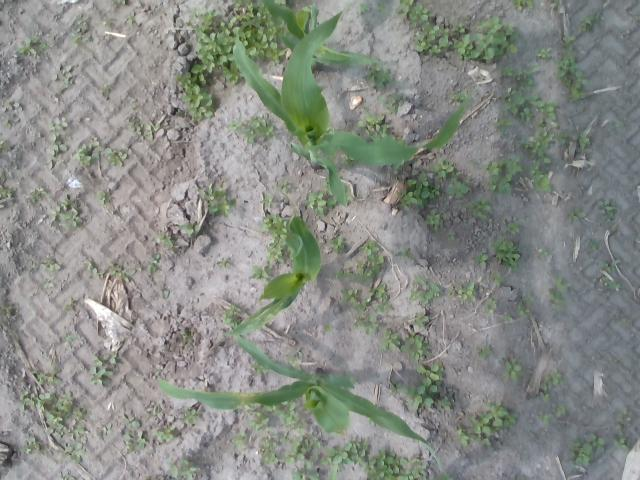Maize: (232, 10, 469, 206), (157, 334, 447, 474), (225, 210, 322, 338), (256, 0, 378, 68)
Weeds: (186, 0, 300, 84), (452, 15, 520, 63), (468, 401, 518, 445), (173, 70, 216, 121), (320, 437, 370, 478), (408, 4, 449, 54), (364, 448, 428, 480), (404, 361, 444, 410), (260, 214, 295, 264), (556, 50, 590, 100), (397, 170, 439, 210), (483, 155, 522, 195), (356, 114, 408, 144), (224, 114, 275, 144), (284, 428, 319, 465), (568, 433, 605, 468), (356, 240, 386, 282), (197, 186, 236, 218), (274, 398, 306, 434), (522, 156, 554, 192), (46, 116, 68, 168), (49, 196, 83, 228), (492, 234, 520, 272), (502, 88, 533, 122), (496, 63, 538, 88), (406, 276, 441, 305), (243, 400, 274, 431), (400, 332, 431, 362), (88, 354, 118, 384), (522, 129, 554, 157), (124, 115, 160, 139), (610, 407, 630, 450), (18, 390, 57, 412), (530, 92, 560, 120), (163, 458, 200, 480), (72, 140, 101, 166), (368, 282, 392, 313), (364, 65, 394, 89), (444, 171, 470, 198), (16, 36, 49, 57), (259, 433, 279, 466), (31, 366, 64, 386), (122, 430, 149, 454), (376, 91, 404, 114), (499, 357, 524, 382), (43, 412, 67, 438), (351, 314, 379, 336), (290, 460, 320, 480), (106, 263, 136, 283), (465, 198, 490, 220), (598, 198, 619, 224), (425, 208, 448, 231), (220, 305, 242, 329), (306, 190, 326, 216), (448, 283, 475, 302), (72, 14, 88, 46), (540, 368, 563, 390), (378, 329, 402, 350), (104, 146, 128, 167), (151, 424, 176, 444), (578, 12, 602, 32), (430, 158, 452, 179), (57, 391, 74, 418), (517, 292, 534, 318), (571, 130, 592, 151), (54, 64, 74, 86), (548, 287, 566, 311), (84, 260, 105, 280), (19, 436, 42, 454), (65, 443, 85, 463), (285, 346, 304, 367), (250, 264, 274, 280), (551, 272, 569, 292), (327, 234, 346, 252), (181, 407, 199, 426), (231, 430, 248, 450), (495, 117, 515, 134), (153, 232, 174, 248), (568, 206, 588, 222), (395, 0, 415, 16), (39, 258, 61, 272), (352, 296, 370, 312), (453, 428, 469, 446), (259, 192, 277, 208), (510, 0, 536, 11), (250, 360, 270, 374), (340, 287, 357, 303), (412, 312, 429, 328), (488, 270, 505, 286), (29, 186, 46, 202), (601, 276, 620, 290), (180, 222, 200, 235), (482, 298, 498, 314), (122, 414, 140, 428), (389, 380, 404, 396), (474, 250, 489, 266), (150, 254, 162, 274), (95, 423, 112, 437), (560, 34, 577, 48), (322, 175, 333, 196), (476, 344, 492, 358), (537, 410, 551, 426), (536, 46, 552, 60), (504, 221, 521, 234), (336, 270, 356, 281), (396, 248, 414, 260), (276, 180, 294, 192), (72, 407, 86, 422), (554, 130, 568, 145), (0, 185, 15, 198), (96, 190, 108, 206), (451, 92, 470, 102), (340, 371, 357, 382), (601, 260, 618, 271), (62, 332, 77, 344), (430, 472, 452, 480), (216, 258, 232, 269), (72, 428, 86, 440), (324, 196, 338, 208), (440, 394, 450, 410), (555, 404, 566, 418), (0, 138, 11, 152), (0, 115, 11, 128), (182, 328, 191, 343), (278, 432, 289, 444), (446, 232, 458, 243), (536, 248, 548, 259), (357, 4, 370, 14), (539, 391, 550, 402), (146, 404, 158, 414), (502, 314, 516, 322), (58, 474, 76, 480), (100, 84, 110, 94), (612, 120, 622, 130), (43, 282, 55, 290), (536, 119, 546, 128), (376, 3, 386, 12), (2, 306, 12, 314), (162, 290, 170, 300), (324, 323, 332, 332), (116, 0, 128, 6), (126, 15, 134, 24), (620, 316, 628, 324), (614, 357, 622, 364), (591, 243, 598, 250), (0, 172, 4, 183)
